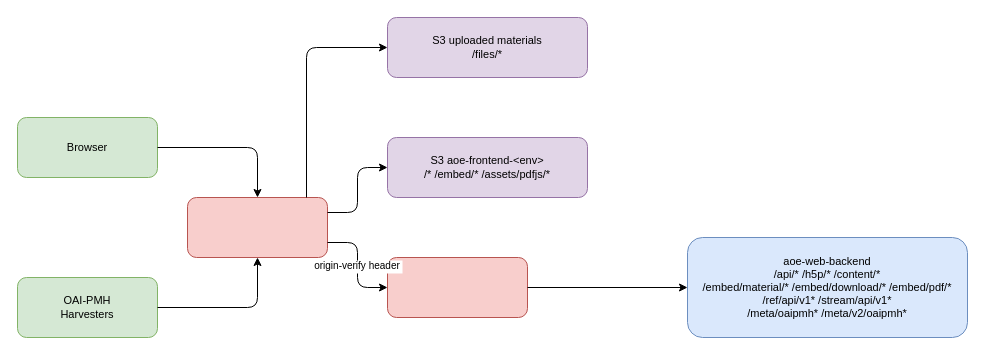
Some shapes in this 985 by 355 pixel diagram are drawn without their labels. The shapes that lost their labels are listed below. From the top down, each one's centre as x and y in pixels, then its label:
At (x=257, y=227): "CloudFront aoe.fi".
At (x=457, y=287): "ALB".
